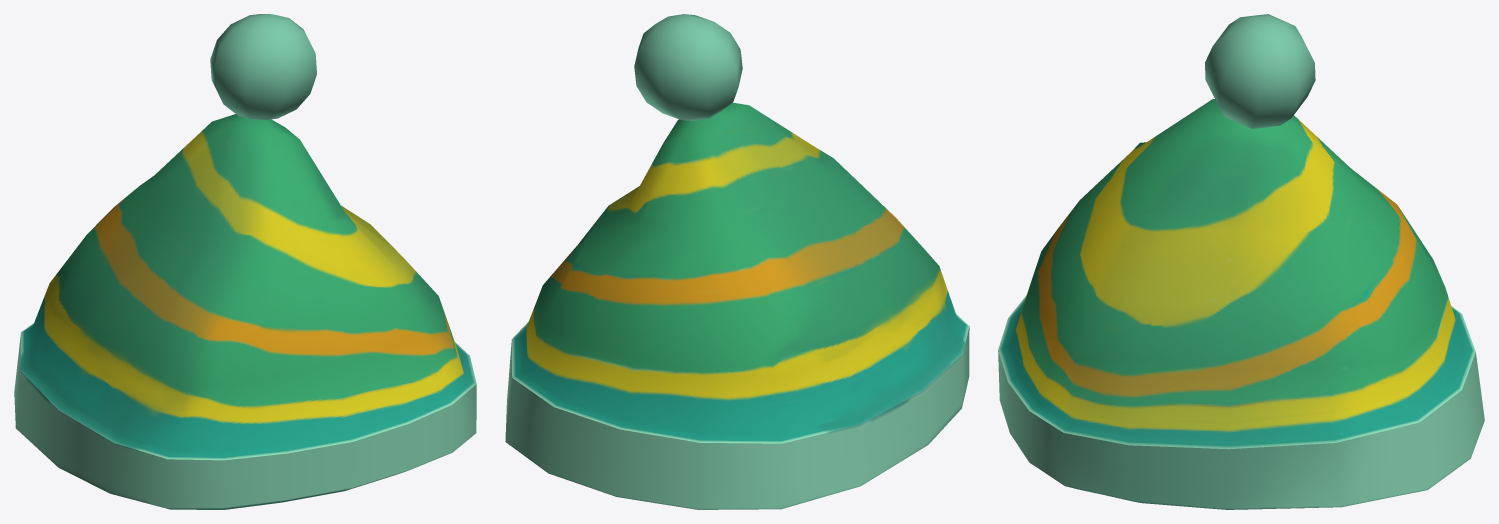
Rendered from girl_cap2.FBX.
3 renders of one model, left to right at view 1: azimuth 30°, elevation 25°; view 2: azimuth 150°, elevation 25°; view 3: azimuth 270°, elevation 25°, orthographic. The views are drawn at different scales.
Visible parts, largest first — view 1: girl_cap09; view 2: girl_cap09; view 3: girl_cap09.
Part boxes in pixels (<box>): girl_cap09: <box>14,14,476,509</box>; girl_cap09: <box>505,14,969,509</box>; girl_cap09: <box>998,14,1484,509</box>.
Bounding box in the file's own units: 50.54 × 53.81 × 52.87.
